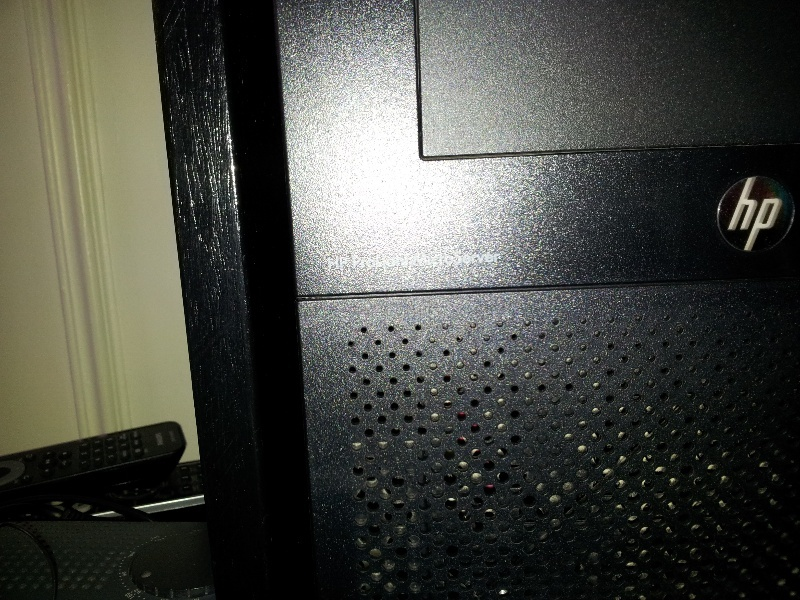text: (753, 176, 768, 253), (769, 176, 784, 253), (785, 176, 789, 253), (353, 250, 368, 269), (369, 250, 384, 269), (385, 250, 400, 269), (401, 250, 416, 269), (417, 250, 432, 269), (433, 250, 448, 269), (449, 250, 464, 269), (465, 250, 480, 269), (481, 250, 496, 269), (749, 176, 752, 253), (337, 255, 348, 270), (328, 255, 336, 270), (130, 592, 144, 600), (153, 432, 160, 447), (168, 431, 176, 443), (131, 552, 144, 558), (497, 250, 501, 269), (135, 431, 144, 438), (81, 461, 96, 465), (81, 452, 96, 456), (161, 432, 165, 447), (150, 535, 160, 541), (135, 440, 144, 445), (138, 588, 144, 595), (120, 443, 128, 448), (122, 571, 128, 577), (154, 537, 160, 543), (161, 537, 166, 543), (123, 451, 128, 457), (123, 434, 128, 440), (135, 450, 144, 452), (97, 440, 101, 444), (107, 438, 112, 441), (97, 458, 101, 461), (97, 449, 101, 452), (108, 455, 112, 458), (108, 447, 112, 449), (113, 455, 115, 458), (95, 440, 96, 444), (95, 458, 96, 461), (95, 449, 96, 452), (113, 438, 114, 441), (113, 447, 114, 449)
